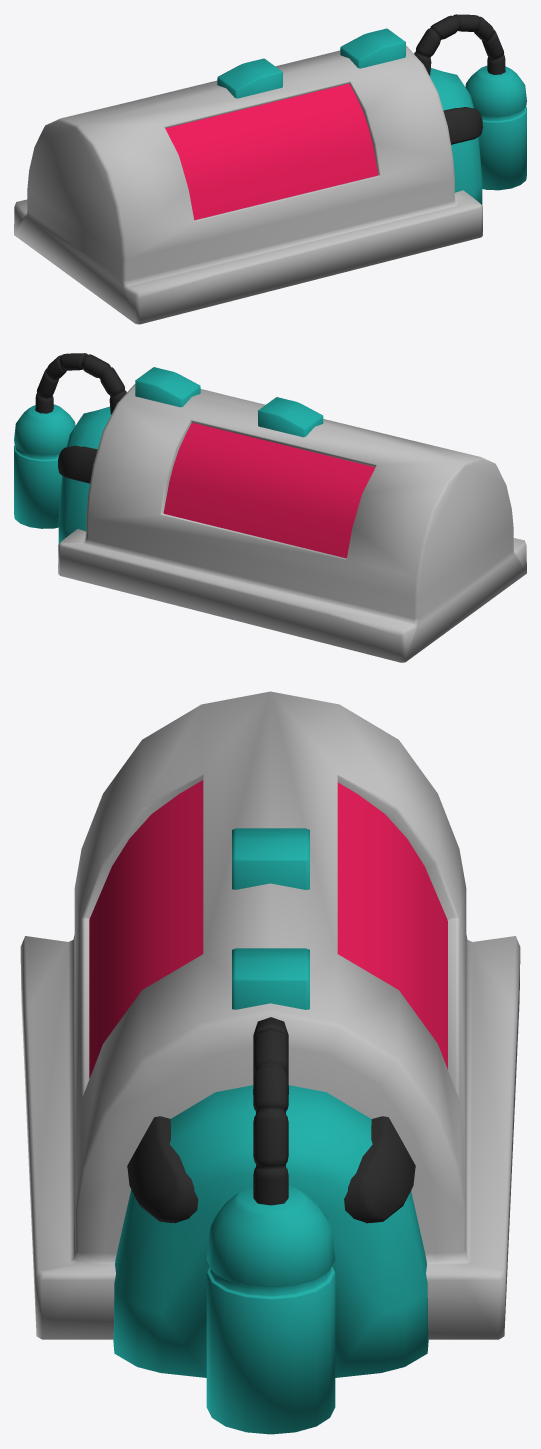
3 views of the same model, one above another, from view 1: azimuth 30°, elevation 25°; view 2: azimuth 150°, elevation 25°; view 3: azimuth 270°, elevation 25° (orthographic). The views are drawn at different scales.
Visible parts, largest first — view 1: Farm_module.008; view 2: Farm_module.008; view 3: Farm_module.008.
Boxes of the visible parts, left/top/right/bottom form: Farm_module.008: left=14, top=14, right=526, bottom=324; Farm_module.008: left=14, top=353, right=526, bottom=662; Farm_module.008: left=20, top=691, right=520, bottom=1434.
Bounding box in the file's own units: 10.9 × 4.03 × 5.26.
